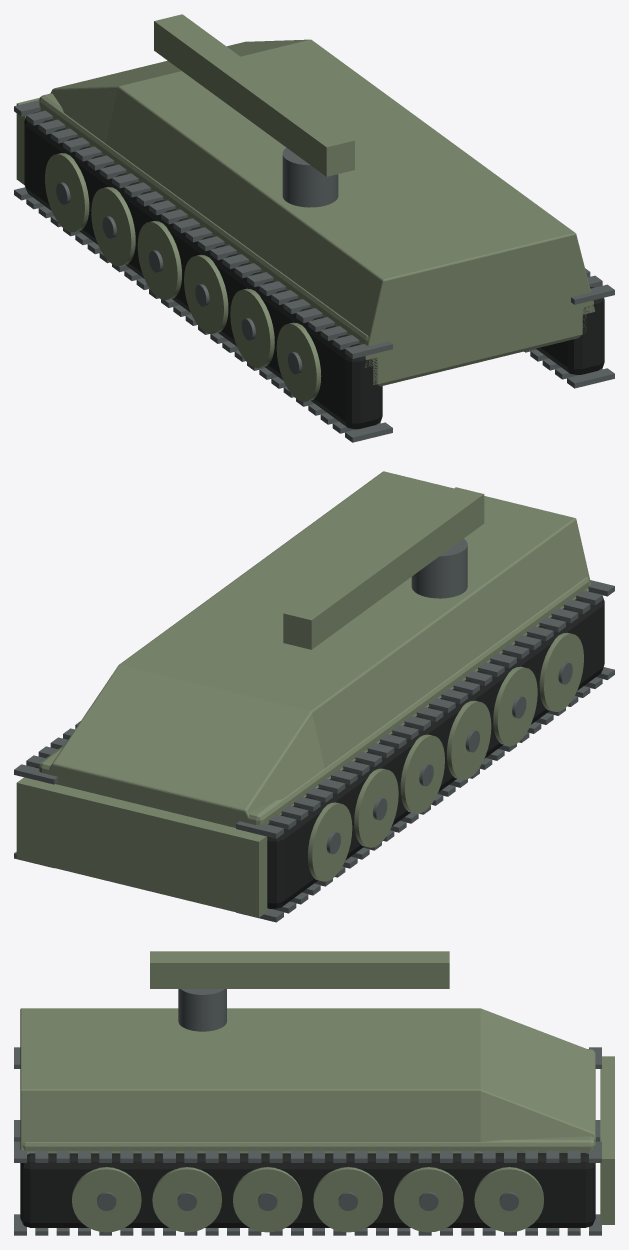
File: k1arv.glb
3 views of the same model, one above another, from view 1: azimuth 30°, elevation 25°; view 2: azimuth 150°, elevation 25°; view 3: azimuth 270°, elevation 25° (orthographic). The views are drawn at different scales.
Visible parts, largest first — view 1: Hull_MVP olive paint, RunningGear_MVP olive paint, RunningGear_MVP rubber, RunningGear_MVP exposed metal, RecoveryCrane_MVP olive paint, RecoveryCrane_MVP exposed metal; view 2: Hull_MVP olive paint, RunningGear_MVP olive paint, RunningGear_MVP exposed metal, RunningGear_MVP rubber, RecoveryCrane_MVP olive paint, RecoveryCrane_MVP exposed metal; view 3: Hull_MVP olive paint, RunningGear_MVP olive paint, RunningGear_MVP rubber, RecoveryCrane_MVP olive paint, RunningGear_MVP exposed metal, RecoveryCrane_MVP exposed metal.
Boxes of the visible parts, bbox=[...] form: Hull_MVP olive paint: bbox=[16, 39, 595, 386]; RunningGear_MVP olive paint: bbox=[45, 153, 321, 401]; RunningGear_MVP rubber: bbox=[24, 111, 604, 429]; RunningGear_MVP exposed metal: bbox=[14, 100, 614, 442]; RecoveryCrane_MVP olive paint: bbox=[154, 14, 354, 176]; RecoveryCrane_MVP exposed metal: bbox=[282, 147, 338, 207]; Hull_MVP olive paint: bbox=[16, 471, 590, 917]; RunningGear_MVP olive paint: bbox=[307, 632, 583, 881]; RunningGear_MVP exposed metal: bbox=[14, 580, 614, 922]; RunningGear_MVP rubber: bbox=[35, 591, 604, 908]; RecoveryCrane_MVP olive paint: bbox=[283, 487, 484, 649]; RecoveryCrane_MVP exposed metal: bbox=[411, 538, 467, 598]; Hull_MVP olive paint: bbox=[20, 1008, 614, 1224]; RunningGear_MVP olive paint: bbox=[72, 1167, 543, 1232]; RunningGear_MVP rubber: bbox=[20, 1153, 595, 1227]; RecoveryCrane_MVP olive paint: bbox=[150, 951, 449, 988]; RunningGear_MVP exposed metal: bbox=[14, 1047, 601, 1235]; RecoveryCrane_MVP exposed metal: bbox=[178, 989, 226, 1031].
Bounding box in the file's own units: 3.39 × 2.66 × 7.42.
